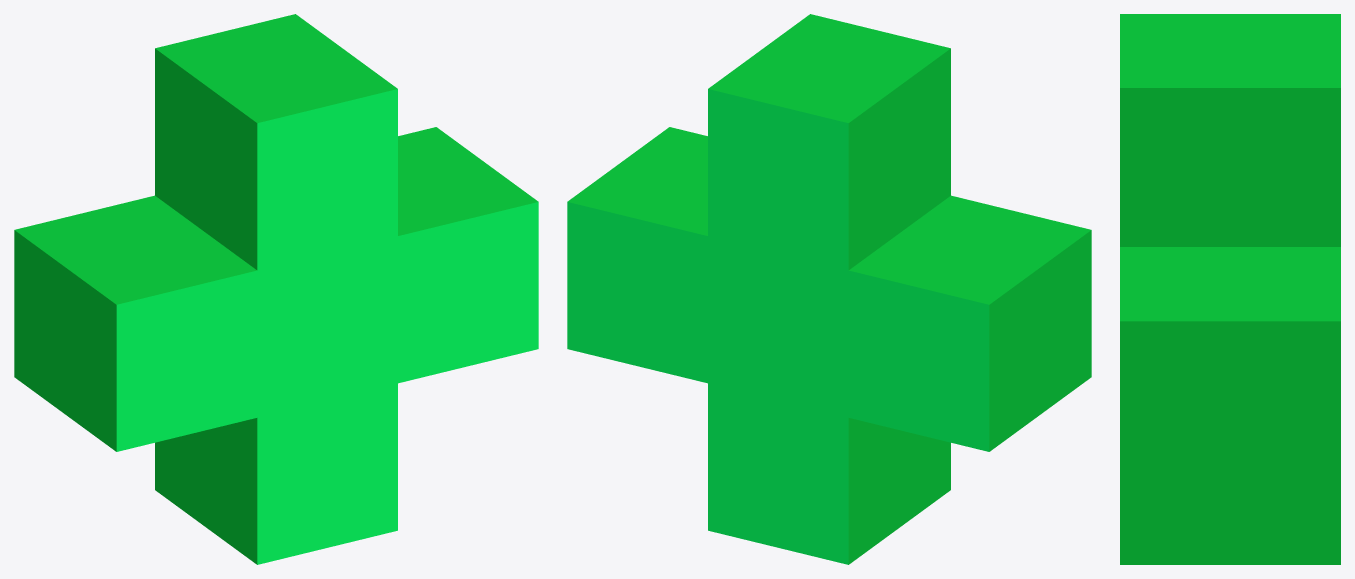
File: 3cb0d184-32cb-4bba-abef-9586eb3304b9.glb
3 renders of one model, left to right at view 1: azimuth 30°, elevation 25°; view 2: azimuth 150°, elevation 25°; view 3: azimuth 270°, elevation 25°, orthographic. The views are drawn at different scales.
Visible parts, largest first — view 1: +_DeltaBlock_Green; view 2: +_DeltaBlock_Green; view 3: +_DeltaBlock_Green.
Boxes of the visible parts, bbox=[...] form: +_DeltaBlock_Green: bbox=[14, 14, 538, 564]; +_DeltaBlock_Green: bbox=[567, 14, 1091, 564]; +_DeltaBlock_Green: bbox=[1120, 14, 1340, 564].
Size of what is drawn, in the model's own units: 0.1071 by 0.1071 by 0.045.
Materials: 2 (2 with a texture image).
